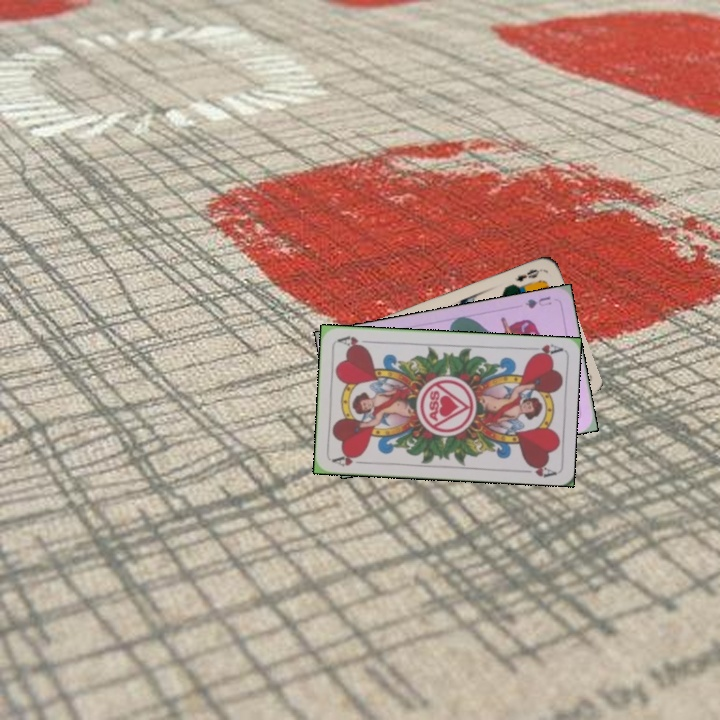EO: (507, 265, 544, 289)
GU: (521, 292, 554, 311)
HA: (329, 450, 370, 469), (526, 340, 564, 359)
